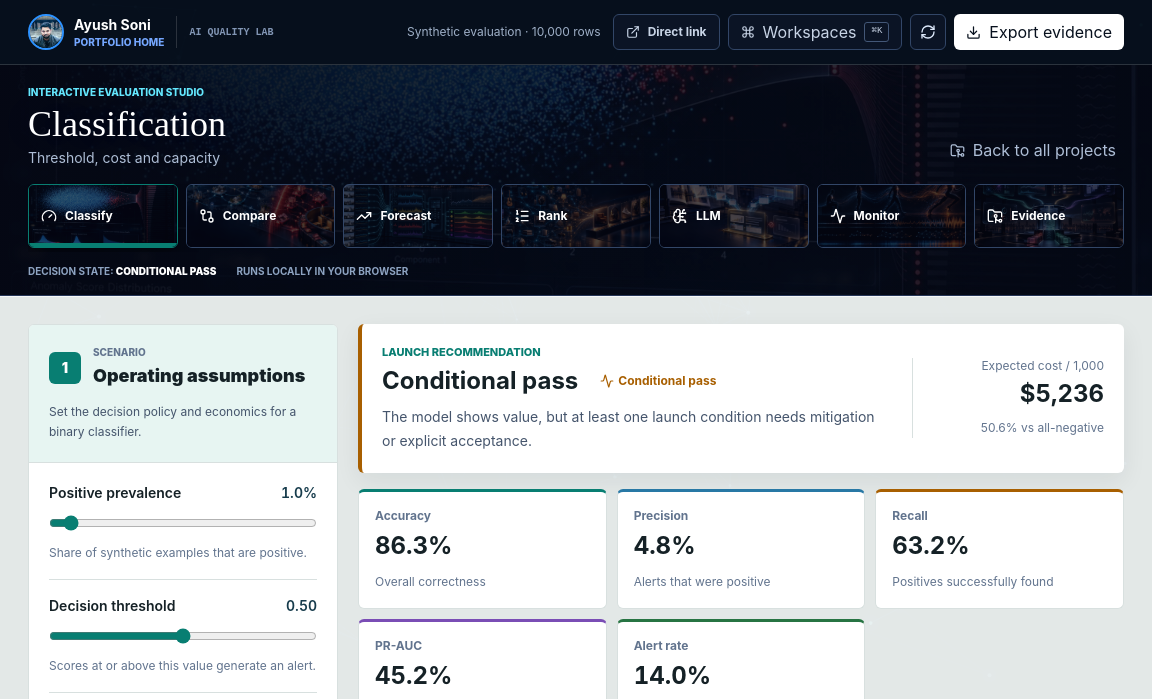
workspace navigation › activates Production monitoring
What coordinates should you click on to do the following:
click the tab with aria-label "Production monitoring"
I would click on:
 (891, 216)
Its box is 817,184 -> 966,248.
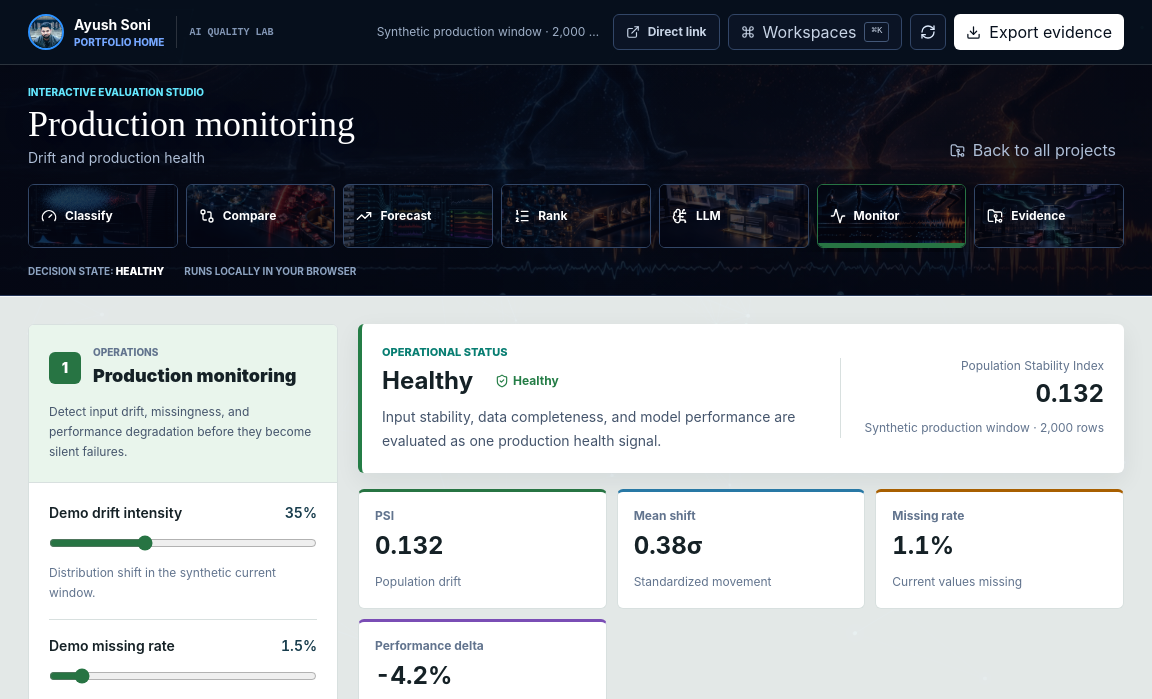
Expected: the heading "Production monitoring" below "Interactive evaluation studio" is shown, 28,104 -> 355,144
